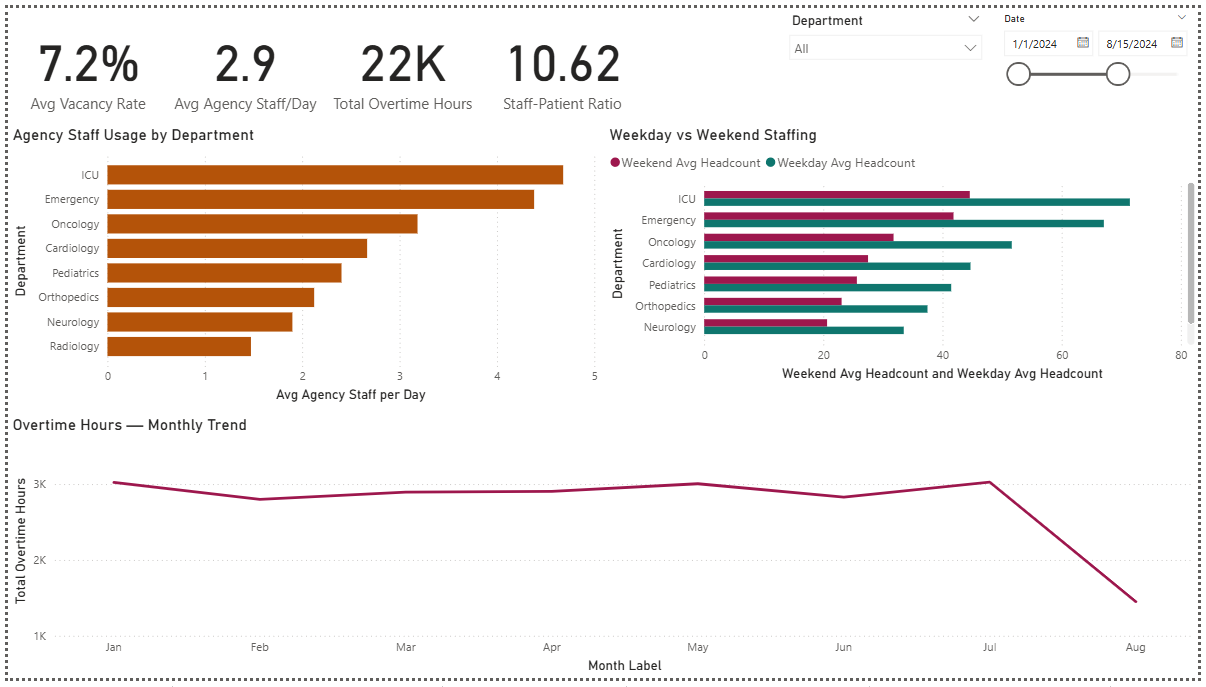

What the dashboard file says about the page in this screenshot:
{"tool":"powerbi","page":{"name":"Workforce & Staffing","canvas":[1280,720],"ordinal":5},"visuals":[{"type":"slicer","fields":{"Values":["Daily_KPIs.Date"]},"box":[1058.6,0,221.4,94.2],"z":0},{"type":"slicer","fields":{"Values":["Department_Daily.Department"]},"box":[830.4,0,227.6,95.6],"z":1000},{"type":"card","fields":{"Values":["_Measures.Avg Vacancy Rate %"]},"box":[0,0,172,126.8],"z":1001},{"type":"card","fields":{"Values":["_Measures.Avg Agency Staff per Day"]},"box":[172,0,166.8,126.8],"z":1002},{"type":"card","fields":{"Values":["_Measures.Total Overtime Hours"]},"box":[338.8,0,172,126.8],"z":1003},{"type":"card","fields":{"Values":["_Measures.Avg Staff Patient Ratio"]},"box":[510.8,0,172,126.8],"z":1004},{"type":"clusteredBarChart","title":"Agency Staff Usage by Department","fields":{"Category":["Staffing_Daily.Department"],"Y":["_Measures.Avg Agency Staff per Day"]},"box":[0,126.8,639.3,302.3],"z":1005},{"type":"clusteredBarChart","title":"Weekday vs Weekend Staffing","fields":{"Category":["Staffing_Daily.Department"],"Y":["_Measures.Weekend Avg Headcount","_Measures.Weekday Avg Headcount"]},"box":[641.1,126,639.3,279.5],"z":1006},{"type":"lineChart","title":"Overtime Hours — Monthly Trend","fields":{"Y":["_Measures.Total Overtime Hours"],"Category":["Staffing_Daily.Month Label"]},"box":[0,438.4,1280.4,281.3],"z":1007}]}

Visuals, with their boxes in screenshot pixels (x1, y1, x2, y2), scaled from the page's 1280x720 canvas onto the 1206x687 screenshot:
slicer - Daily_KPIs.Date: pyautogui.locateOnScreen(997, 0, 1205, 90)
slicer - Department_Daily.Department: pyautogui.locateOnScreen(782, 0, 997, 91)
card - _Measures.Avg Vacancy Rate %: pyautogui.locateOnScreen(0, 0, 162, 121)
card - _Measures.Avg Agency Staff per Day: pyautogui.locateOnScreen(162, 0, 319, 121)
card - _Measures.Total Overtime Hours: pyautogui.locateOnScreen(319, 0, 481, 121)
card - _Measures.Avg Staff Patient Ratio: pyautogui.locateOnScreen(481, 0, 643, 121)
"Agency Staff Usage by Department" clusteredBarChart: pyautogui.locateOnScreen(0, 121, 602, 409)
"Weekday vs Weekend Staffing" clusteredBarChart: pyautogui.locateOnScreen(604, 120, 1205, 387)
"Overtime Hours — Monthly Trend" lineChart: pyautogui.locateOnScreen(0, 418, 1205, 686)
